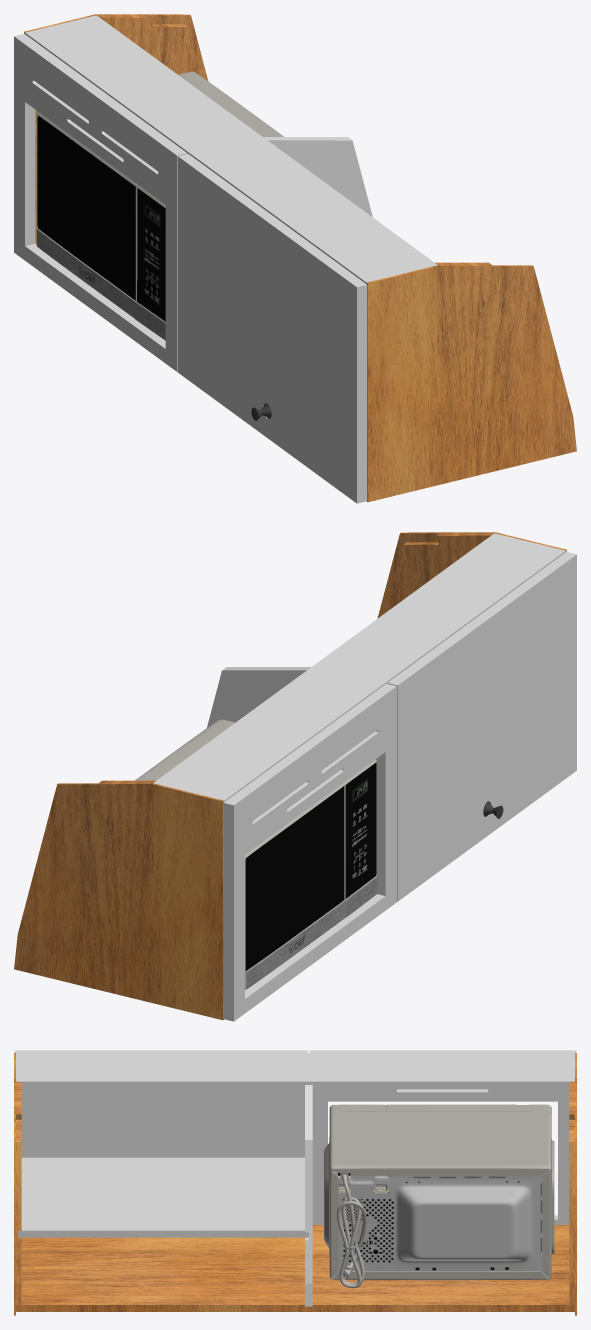
Rendered from wall-cabinet-driver-side.glb.
3 renders of one model, top to bottom at view 1: azimuth 30°, elevation 25°; view 2: azimuth 150°, elevation 25°; view 3: azimuth 270°, elevation 25°, orthographic. The views are drawn at different scales.
Parts seen in each view (by area): view 1: Document.003; view 2: Document.003; view 3: Document.003.
Boxes of the visible parts, bbox=[...] form: Document.003: bbox=[14, 14, 576, 503]; Document.003: bbox=[14, 532, 576, 1021]; Document.003: bbox=[14, 1050, 576, 1315].
Bounding box in the file's own units: 0.426 × 0.384 × 1.09.
Materials: 4 (2 with a texture image).
